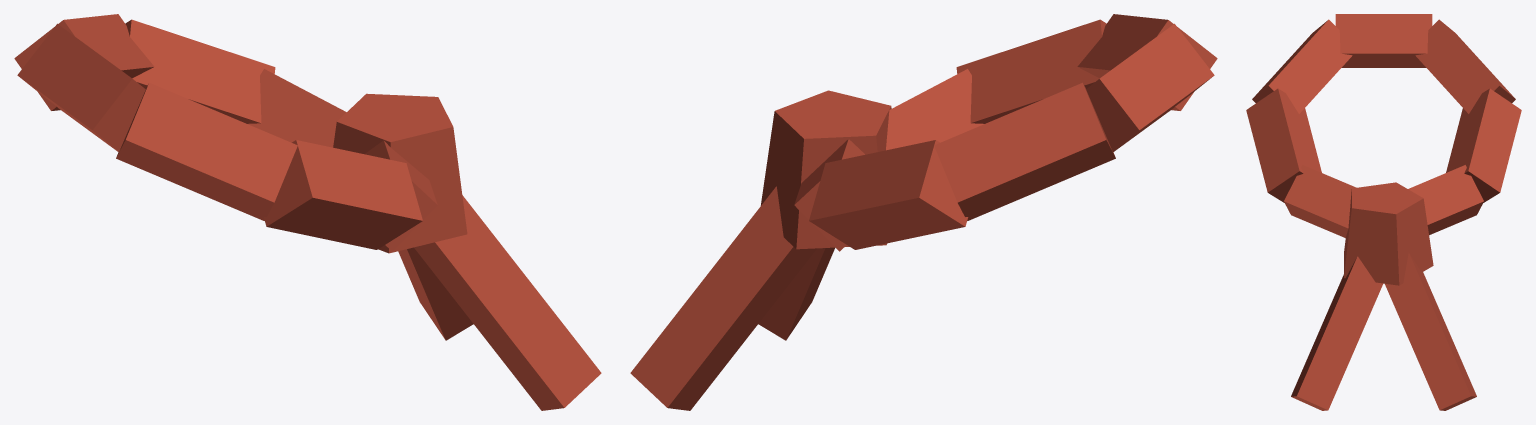
Rendered from gull_cord.glb.
3 views of the same model, side by side, from view 1: azimuth 30°, elevation 25°; view 2: azimuth 150°, elevation 25°; view 3: azimuth 270°, elevation 25° (orthographic). The views are drawn at different scales.
Visible parts, largest first — view 1: coal_l5; view 2: coal_l5; view 3: coal_l5.
Part boxes in pixels (bbox=[...]): coal_l5: bbox=[14, 14, 601, 410]; coal_l5: bbox=[630, 14, 1217, 410]; coal_l5: bbox=[1246, 14, 1521, 410].
Bounding box in the file's own units: 0.1441 × 0.1209 × 0.1111.
